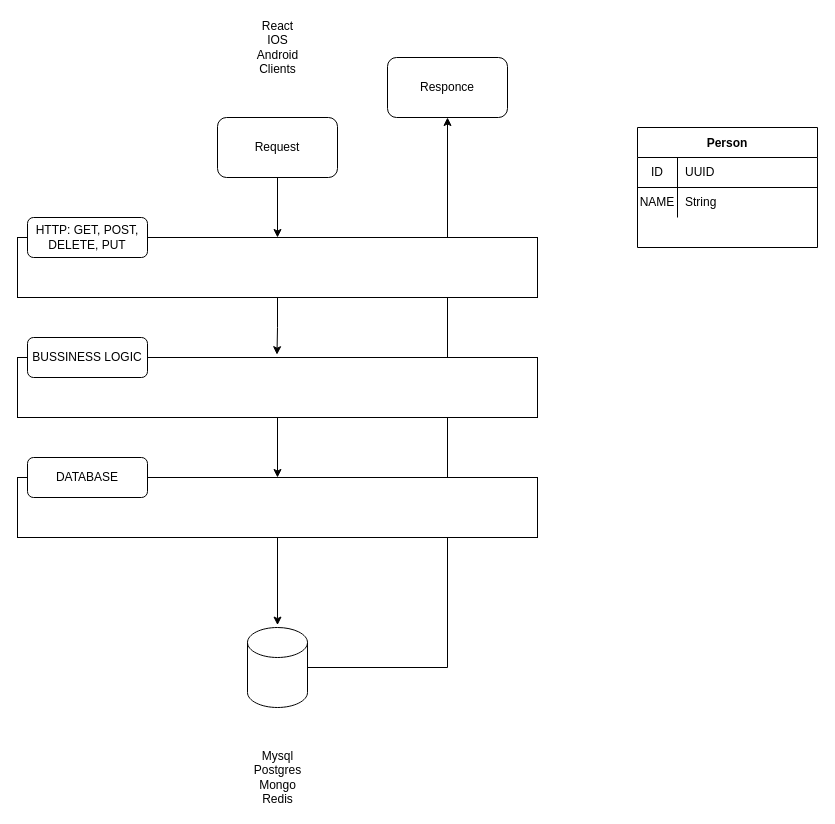
Image size: 835x824. Some labels were removed from this diagram. The shapes that lost their labels are listed below. From the top down, each one's box as (x1, y1, x2, y2) in pixels, then its label:
(16, 236, 538, 298): API Layer / Controller Layer
(16, 356, 538, 418): Service Layer
(16, 476, 538, 538): Data Access Layer
